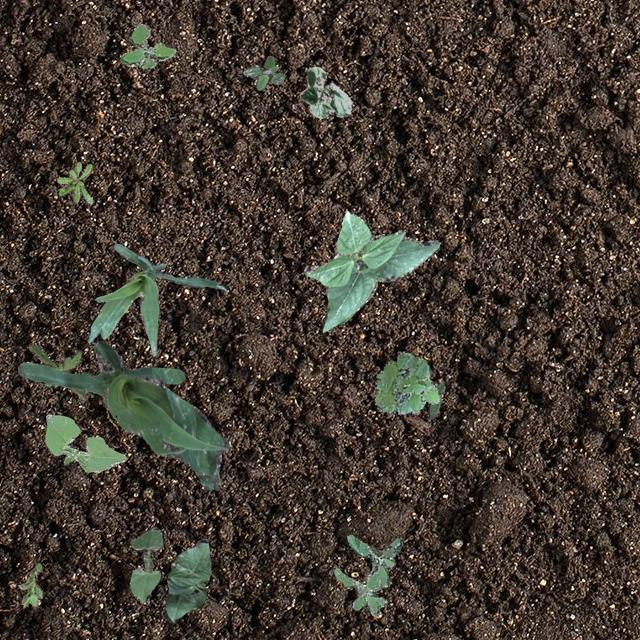crop: (18, 340, 228, 490), (302, 210, 440, 332), (86, 242, 226, 354), (44, 414, 125, 471), (162, 536, 210, 622), (298, 66, 352, 116), (128, 526, 162, 602)
weed: (332, 534, 402, 616), (374, 350, 438, 412), (28, 342, 86, 399), (120, 22, 174, 68), (57, 160, 93, 202), (242, 54, 284, 90), (18, 562, 42, 606), (428, 382, 443, 418)
